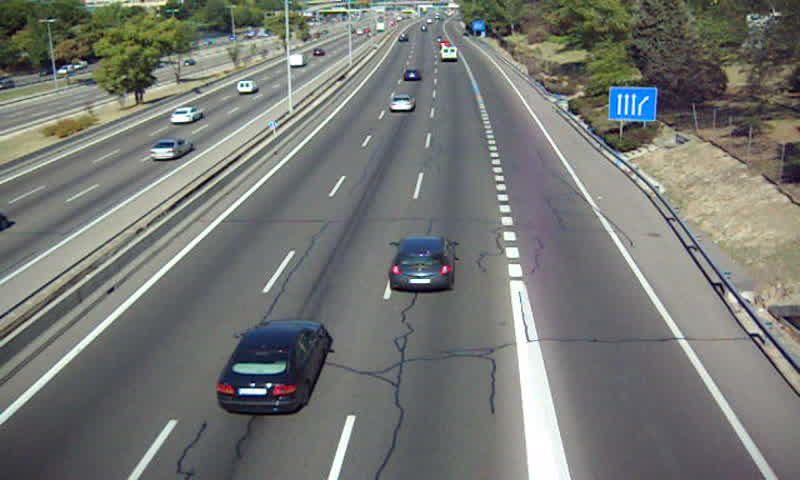car: (217, 322, 329, 415), (390, 236, 453, 291), (388, 94, 416, 113), (402, 68, 421, 84)
van: (442, 45, 458, 63)
